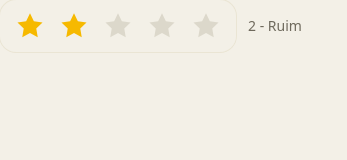
it: StarRatingInput › mostra pré-visualização no hover e restaura valor ao sair do mouse
Expected: the text "2 - Ruim" is shown, [248,16,302,36]
Hover over the radio button named "5 estrelas" at x=206, y=26, box [186,6,226,46]
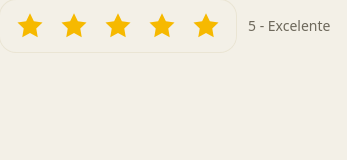
Now the text "5 - Excelente" is shown, box [248,16,330,36]
Move the pointer off the element named "Nota de 1 a 5 estrelas", box [0,0,236,52]
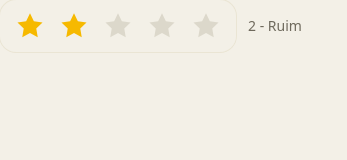
Now the text "2 - Ruim" is shown, box [248,16,302,36]
